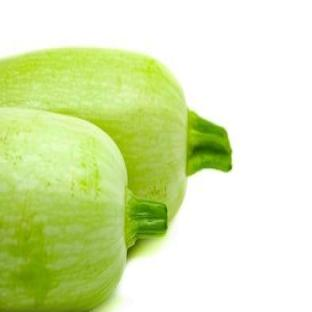Zucchini: (0, 48, 231, 218), (0, 108, 166, 311)
